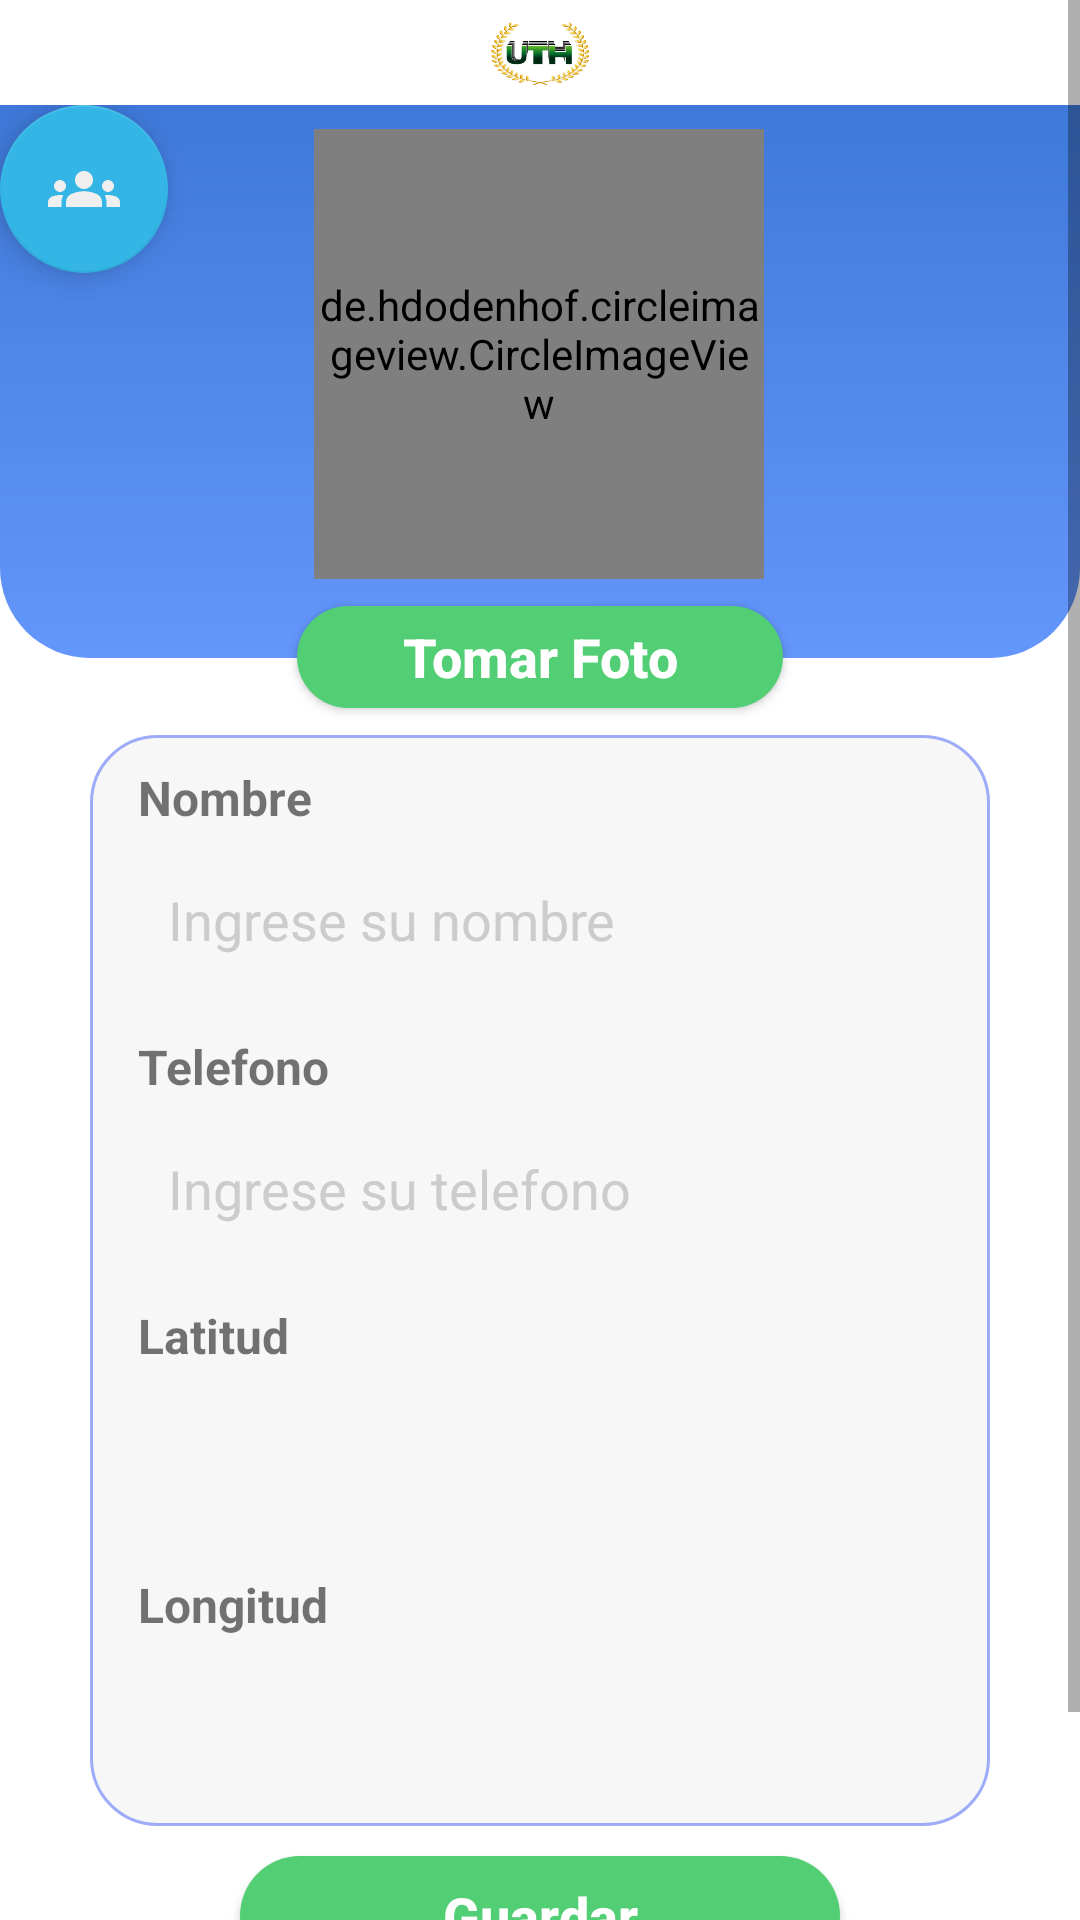

Icon click points for this 1080x1920 phone screenshot, format point (x, y):
groups: point (84, 189)
